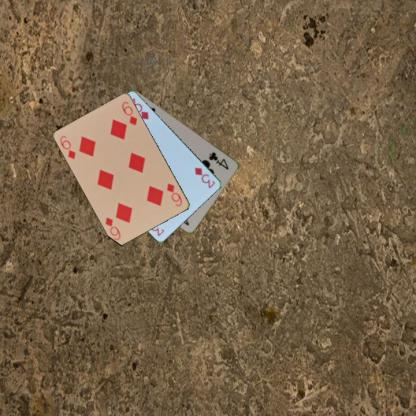3d: (192, 164, 217, 190)
4c: (206, 149, 231, 171)
6d: (57, 133, 77, 161), (164, 181, 184, 208)
